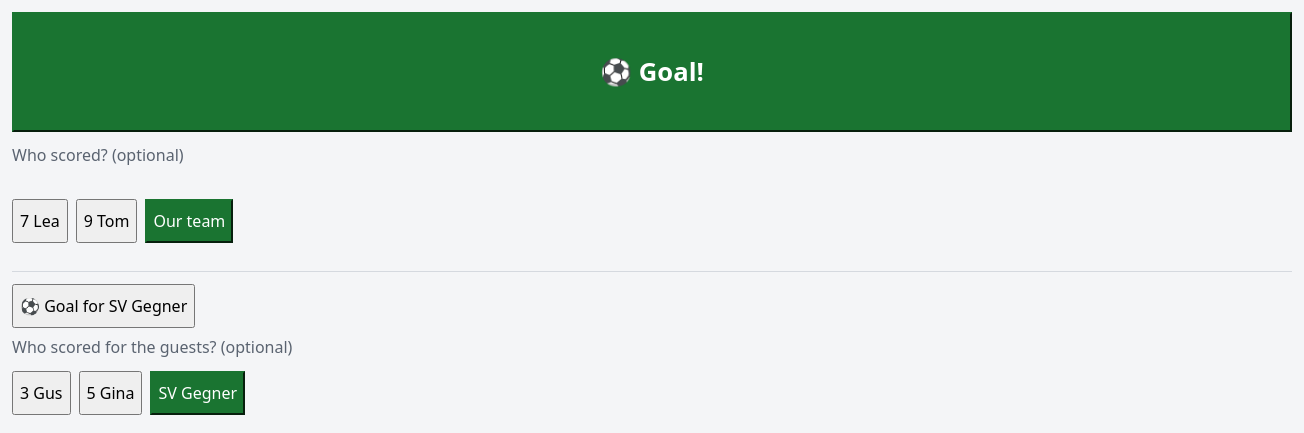
Scenario: guest goals › guest scorer chips list guest field players only and name the scorer
The image size is (1304, 433).
Later steps or results of the test are not shown.
Click the button "5 Gina" at [110, 393], box x1=78 y1=371 x2=142 y2=415
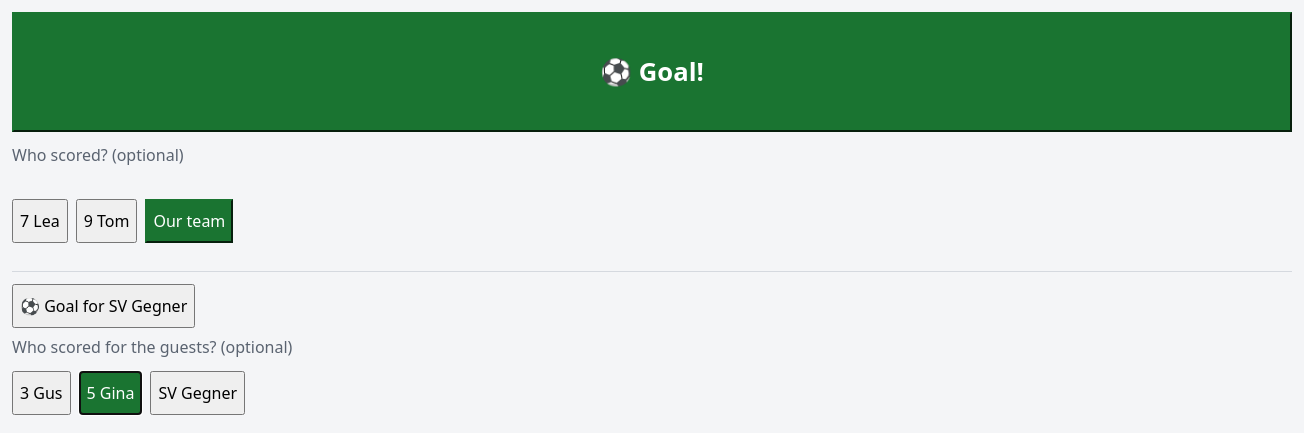
Check: the button "5 Gina" is pressed, box x1=78 y1=371 x2=142 y2=415
